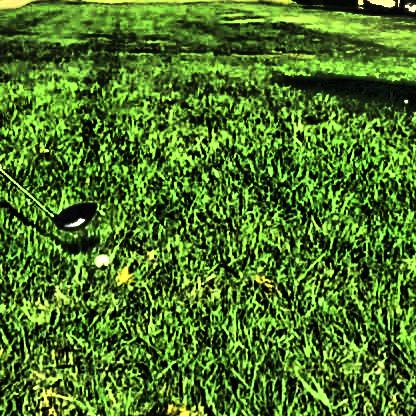golfball: (91, 250, 106, 264)
